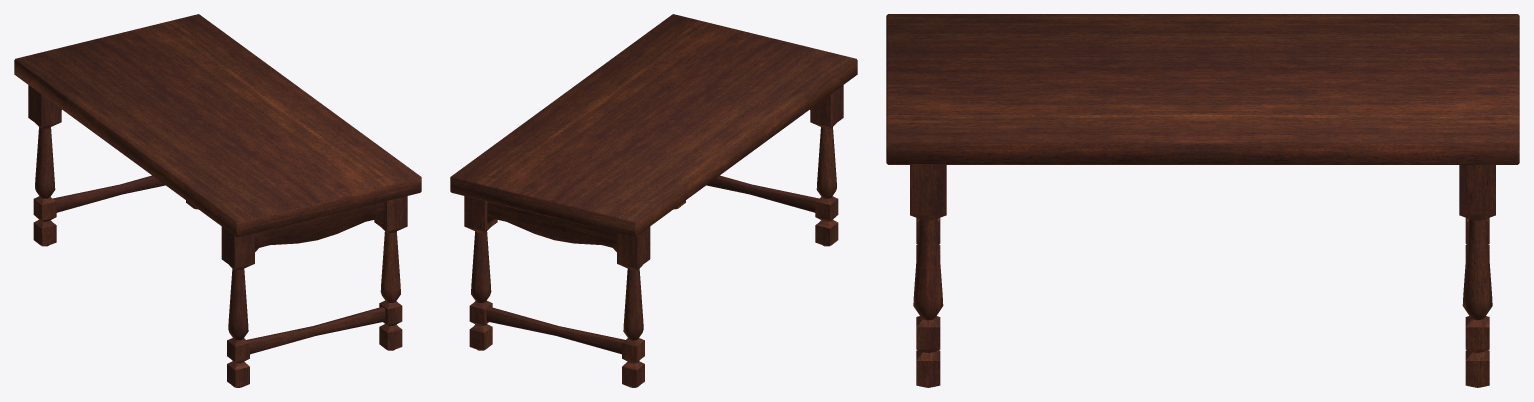
File: SM_Table_b_001.fbx
3 renders of one model, left to right at view 1: azimuth 30°, elevation 25°; view 2: azimuth 150°, elevation 25°; view 3: azimuth 270°, elevation 25°, orthographic. The views are drawn at different scales.
Parts seen in each view (by area): view 1: SM_Table_b_001; view 2: SM_Table_b_001; view 3: SM_Table_b_001.
Part boxes in pixels (x1,y1,x2,y2): SM_Table_b_001: (14,14,421,387); SM_Table_b_001: (450,14,857,387); SM_Table_b_001: (886,14,1519,387).
Bounding box in the file's own units: 105 × 96.78 × 218.
